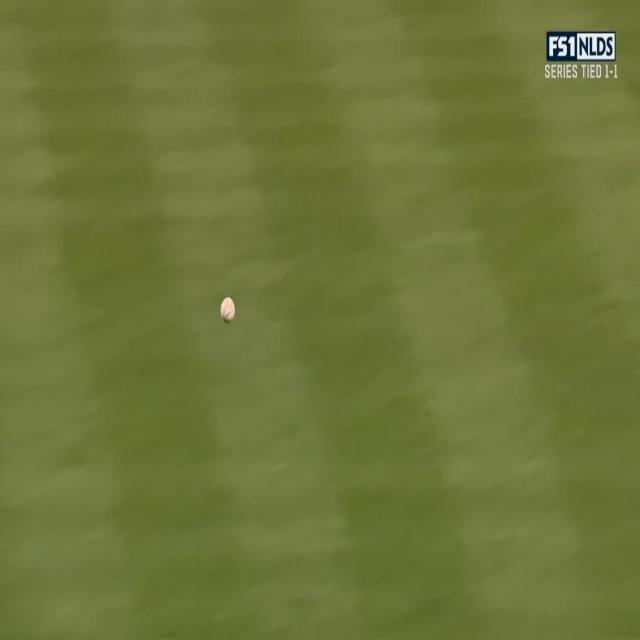baseball: (217, 295, 238, 326)
